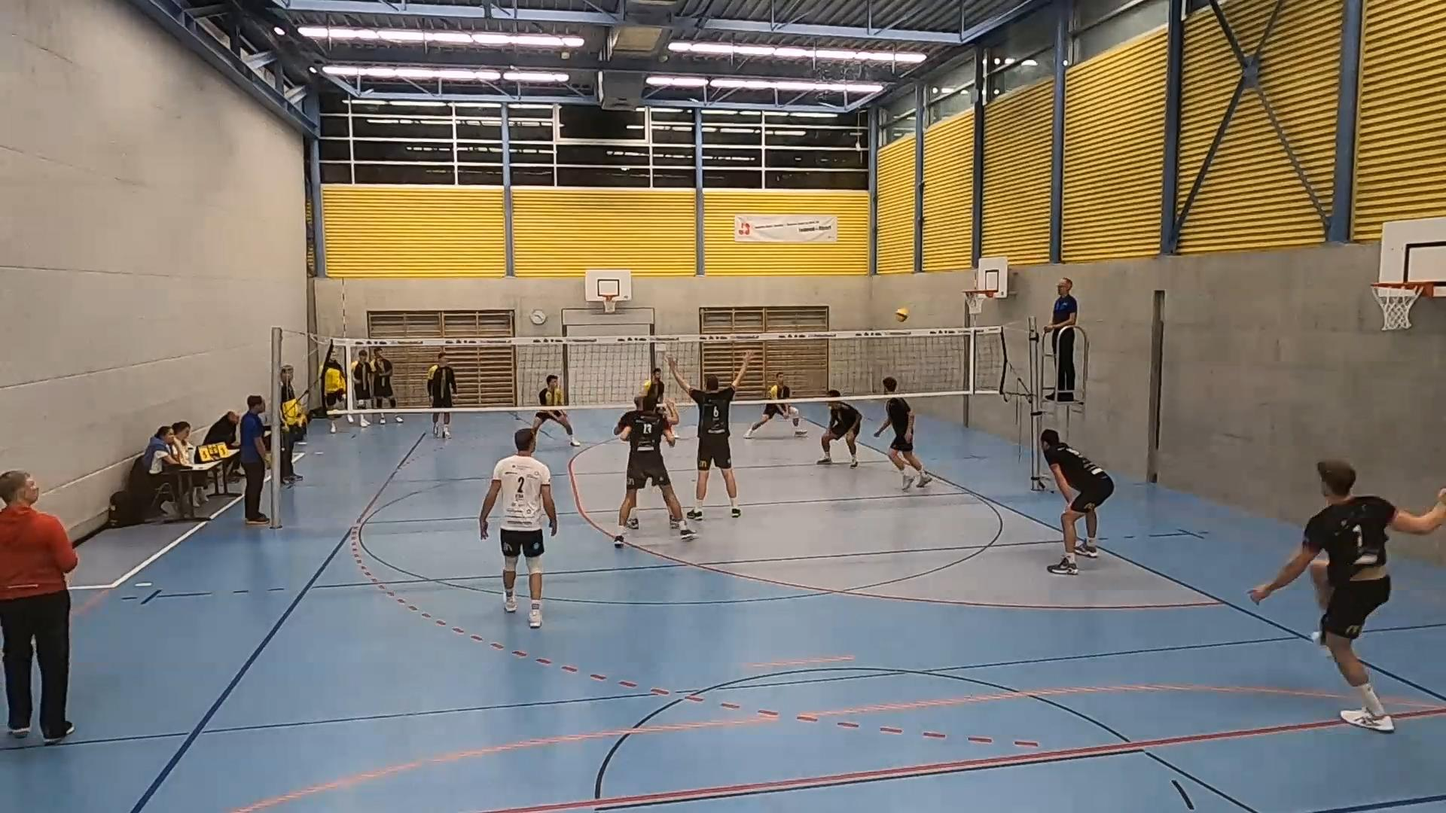alzata: (675, 357, 764, 511)
